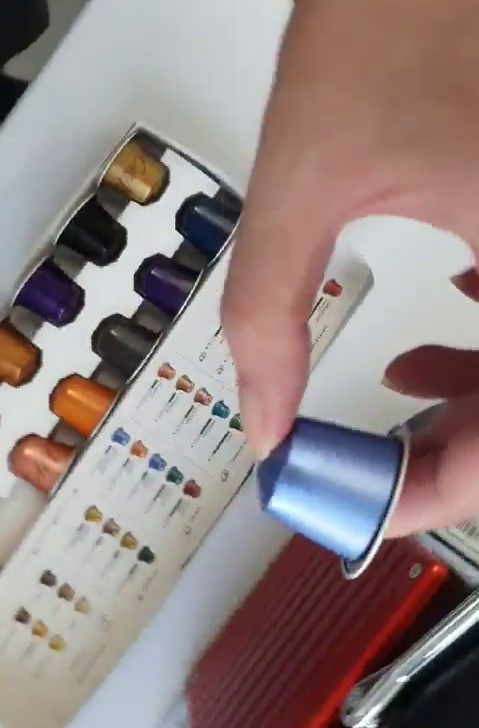capsule_7: (249, 408, 412, 580)
